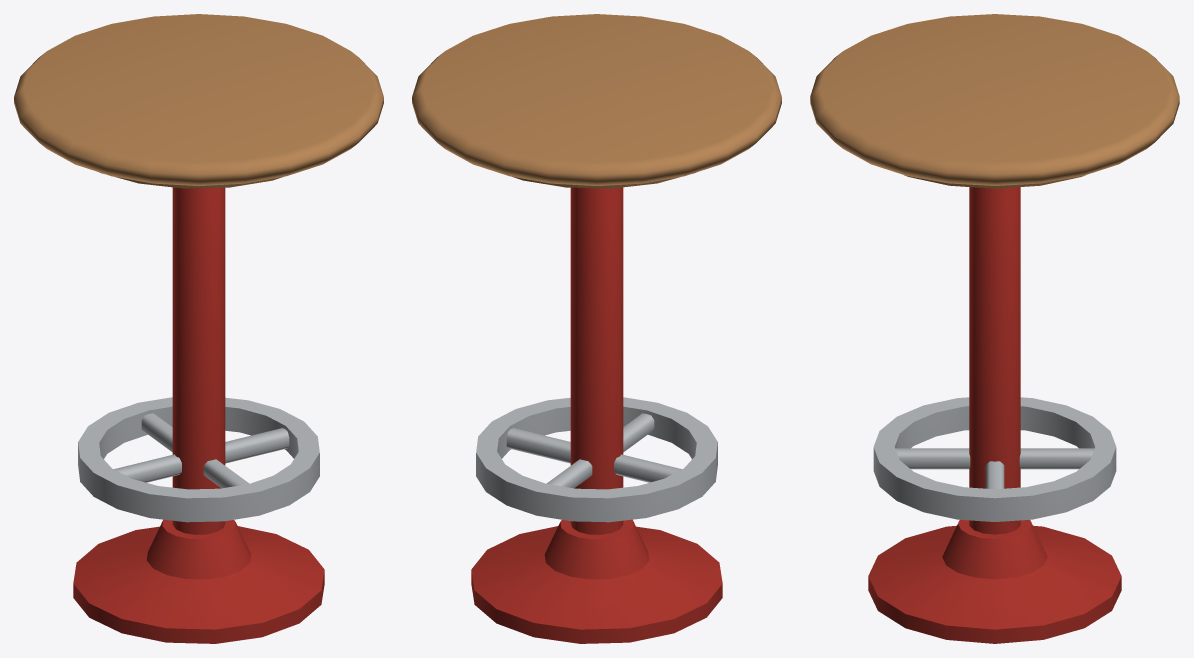
File: SM_Table_HighTop_01.glb
The picture shows the model from 3 angles, left to right: view 1: azimuth 30°, elevation 25°; view 2: azimuth 150°, elevation 25°; view 3: azimuth 270°, elevation 25°; orthographic projection.
Parts seen in each view (by area): view 1: SM_Table_HighTop_01; view 2: SM_Table_HighTop_01; view 3: SM_Table_HighTop_01.
Part boxes in pixels (left/top/right/bottom): SM_Table_HighTop_01: left=14, top=14, right=383, bottom=643; SM_Table_HighTop_01: left=412, top=14, right=781, bottom=643; SM_Table_HighTop_01: left=810, top=14, right=1179, bottom=643.
Bounding box in the file's own units: 0.7 × 1.05 × 0.7.
1 material, 1 textured.
